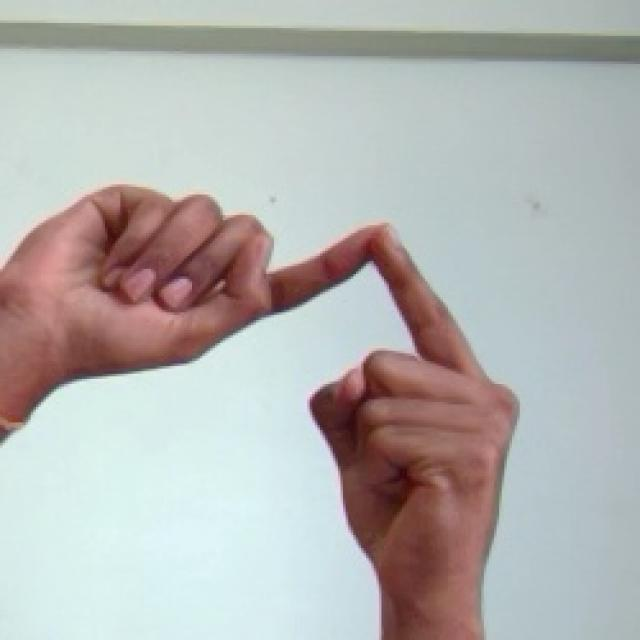Alphabet-E: (1, 187, 520, 639)
